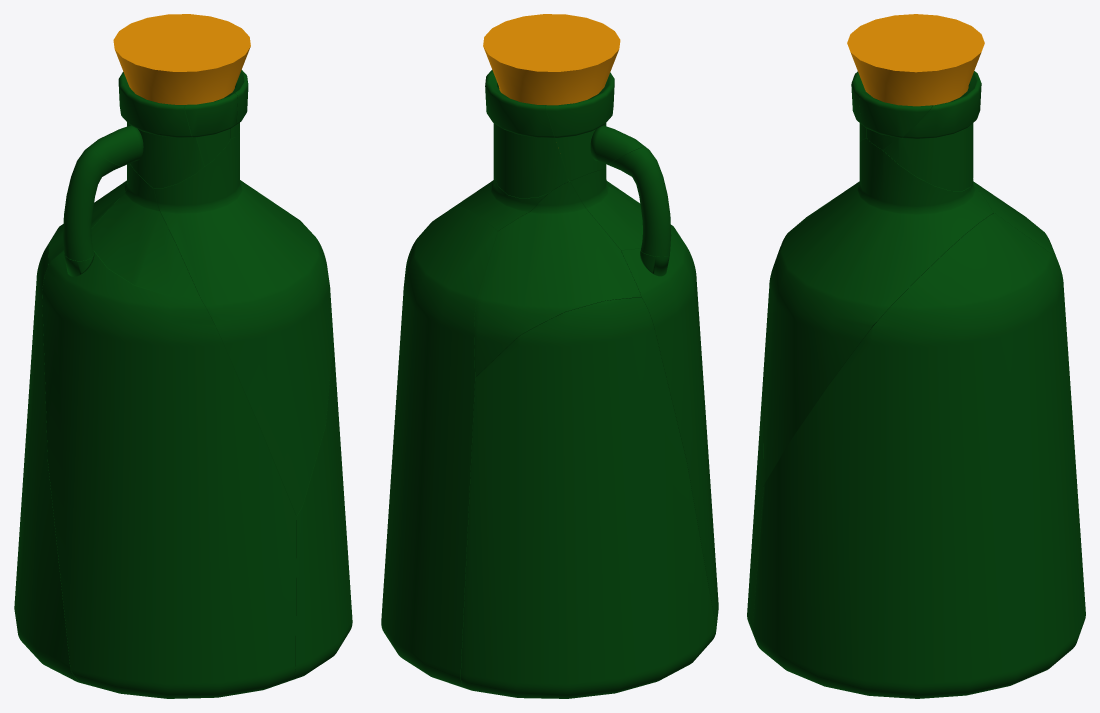
The model's file is Botella_Garrafon_Rota.fbx.
3 renders of one model, left to right at view 1: azimuth 30°, elevation 25°; view 2: azimuth 150°, elevation 25°; view 3: azimuth 270°, elevation 25°, orthographic.
Visible parts, largest first — view 1: Botella1.Rota_cell.002, Botella1.Rota_cell.007, Botella1.Rota_cell.004, Botella1.Rota_cell.005, Botella1.Rota_cell.006, Tapon1.001, Botella1.Rota_cell.008, Botella1.Rota_cell, Botella1.Rota_cell.010, Botella1.Rota_cell.003, Botella1.Rota_cell.009; view 2: Botella1.Rota_cell.005, Botella1.Rota_cell.004, Botella1.Rota_cell.003, Botella1.Rota_cell.002, Tapon1.001, Botella1.Rota_cell.006, Botella1.Rota_cell.001, Botella1.Rota_cell.008, Botella1.Rota_cell.007, Botella1.Rota_cell.010; view 3: Botella1.Rota_cell.004, Botella1.Rota_cell.007, Tapon1.001, Botella1.Rota_cell.001, Botella1.Rota_cell.009, Botella1.Rota_cell.002, Botella1.Rota_cell.003, Botella1.Rota_cell.
Part boxes in pixels (x1=…): Botella1.Rota_cell.002: x1=42, y1=250, x2=296, y2=698; Botella1.Rota_cell.007: x1=153, y1=133, x2=333, y2=515; Botella1.Rota_cell.004: x1=282, y1=208, x2=352, y2=681; Botella1.Rota_cell.005: x1=14, y1=240, x2=86, y2=684; Botella1.Rota_cell.006: x1=63, y1=145, x2=199, y2=297; Tapon1.001: x1=113, y1=14, x2=250, y2=104; Botella1.Rota_cell.008: x1=118, y1=72, x2=204, y2=188; Botella1.Rota_cell: x1=185, y1=93, x2=237, y2=165; Botella1.Rota_cell.010: x1=91, y1=125, x2=143, y2=166; Botella1.Rota_cell.003: x1=48, y1=171, x2=127, y2=264; Botella1.Rota_cell.009: x1=229, y1=70, x2=248, y2=138; Botella1.Rota_cell.005: x1=461, y1=297, x2=716, y2=698; Botella1.Rota_cell.004: x1=381, y1=207, x2=497, y2=687; Botella1.Rota_cell.003: x1=474, y1=181, x2=640, y2=377; Botella1.Rota_cell.002: x1=621, y1=224, x2=718, y2=629; Tapon1.001: x1=483, y1=14, x2=620, y2=105; Botella1.Rota_cell.006: x1=570, y1=146, x2=671, y2=256; Botella1.Rota_cell.001: x1=485, y1=73, x2=568, y2=198; Botella1.Rota_cell.008: x1=545, y1=72, x2=614, y2=181; Botella1.Rota_cell.007: x1=452, y1=169, x2=624, y2=230; Botella1.Rota_cell.010: x1=590, y1=125, x2=644, y2=164; Botella1.Rota_cell.004: x1=752, y1=213, x2=1084, y2=698; Botella1.Rota_cell.007: x1=763, y1=138, x2=993, y2=486; Tapon1.001: x1=847, y1=14, x2=984, y2=106; Botella1.Rota_cell.001: x1=883, y1=71, x2=981, y2=190; Botella1.Rota_cell.009: x1=859, y1=92, x2=932, y2=149; Botella1.Rota_cell.002: x1=747, y1=213, x2=812, y2=633; Botella1.Rota_cell.003: x1=973, y1=181, x2=1065, y2=319; Botella1.Rota_cell: x1=851, y1=71, x2=868, y2=141.
Bounding box in the file's own units: 11.48 × 11.48 × 22.08.
